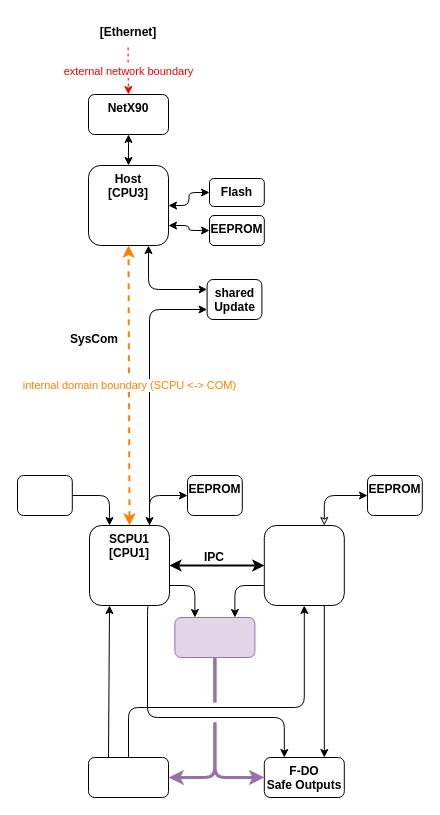
Some shapes in this 440 by 815 pixel diagram are drawn without their labels. The shapes that lost their labels are listed below. From the top down, each one's centre as x and y in pixels, then its label:
At (x=44, y=495): "Rotary Switches".
At (x=303, y=565): "SCPU2 [CPU2]".
At (x=214, y=637): "Watchdog".
At (x=128, y=777): "F-DI Safe Inputs".
